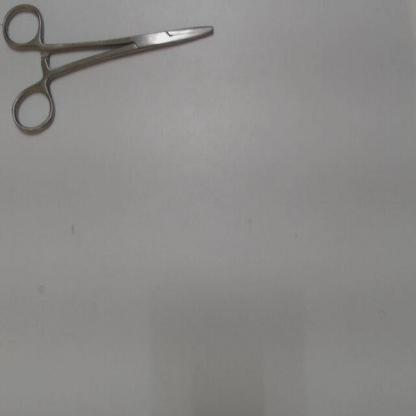Mayo Needle Holder: (1, 1, 234, 144)
